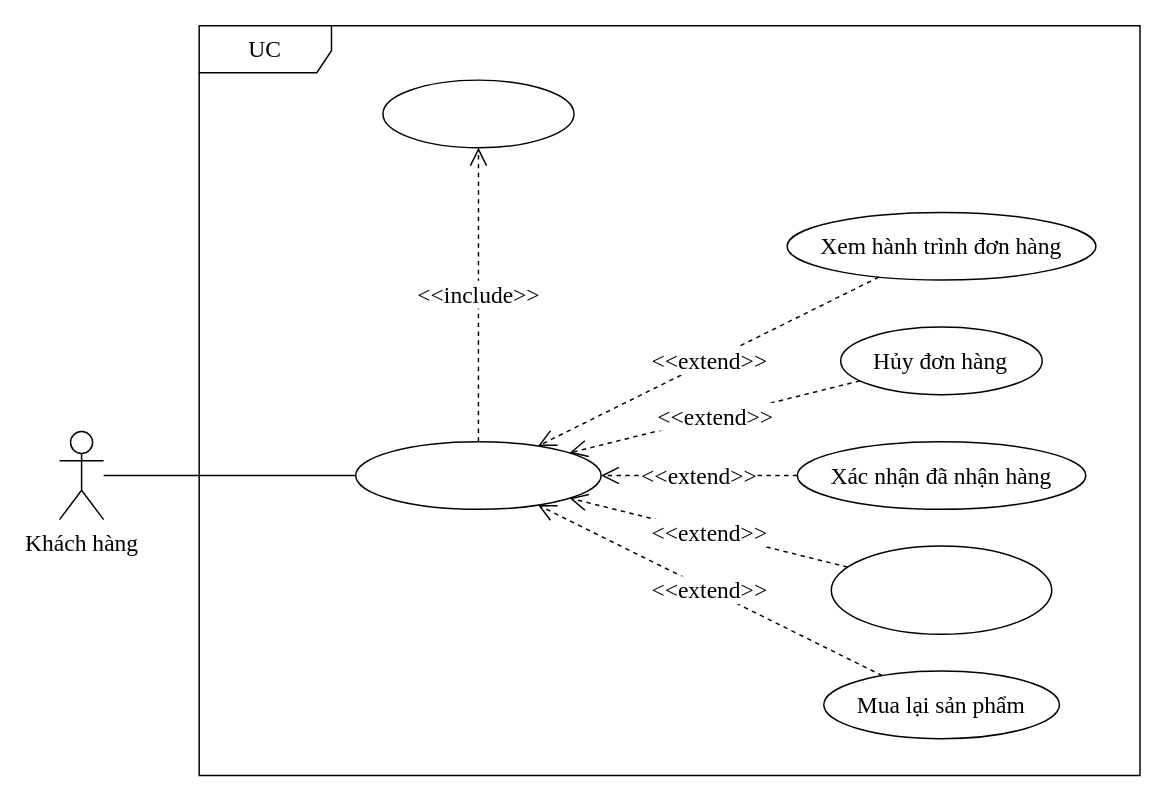
Image size: 1166x801. Some labels were removed from this diagram. The centre of each missing label's shape, as x and y in pixels:
"Cập nhật trạng thái vận chuyển" belongs at point 941,589.
"Theo dõi đơn hàng" belongs at point 477,474.
"Đăng nhập" belongs at point 477,113.
